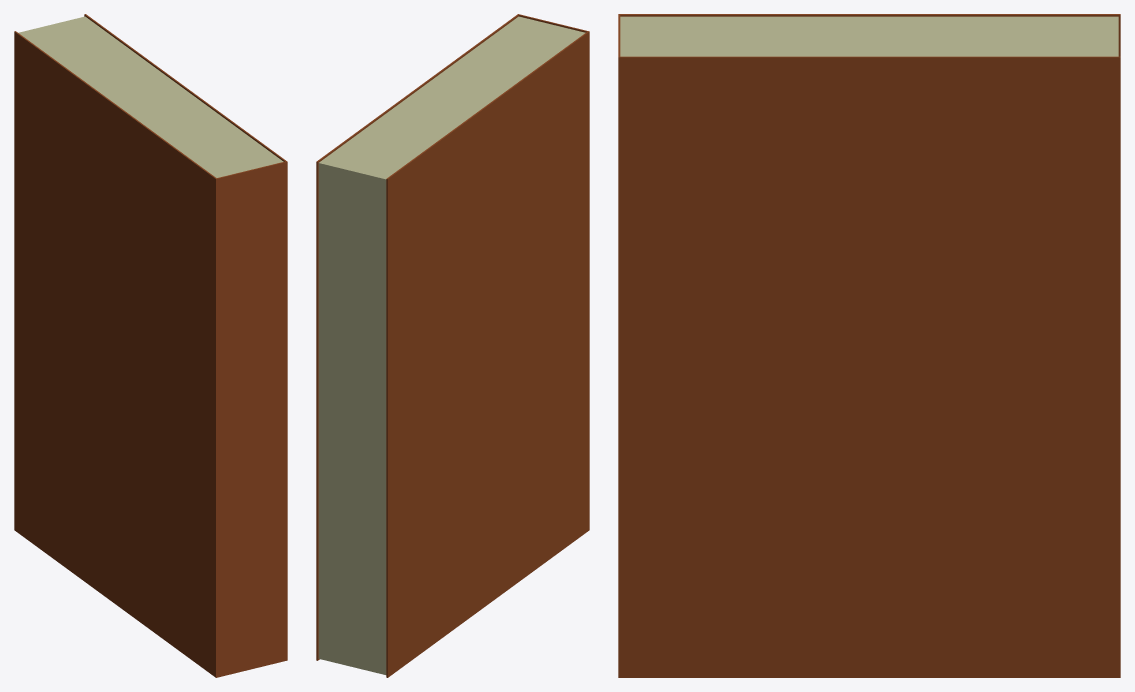
Rendered from Libro.fbx.
The picture shows the model from 3 angles, left to right: view 1: azimuth 30°, elevation 25°; view 2: azimuth 150°, elevation 25°; view 3: azimuth 270°, elevation 25°; orthographic projection. The views are drawn at different scales.
Visible parts, largest first — view 1: Book0; view 2: Book0; view 3: Book0.
Part boxes in pixels (x1=…): Book0: x1=14, y1=14, x2=287, y2=677; Book0: x1=316, y1=14, x2=589, y2=677; Book0: x1=618, y1=14, x2=1120, y2=677.
Size of the model in its own units: 4.5 by 30 by 22.
